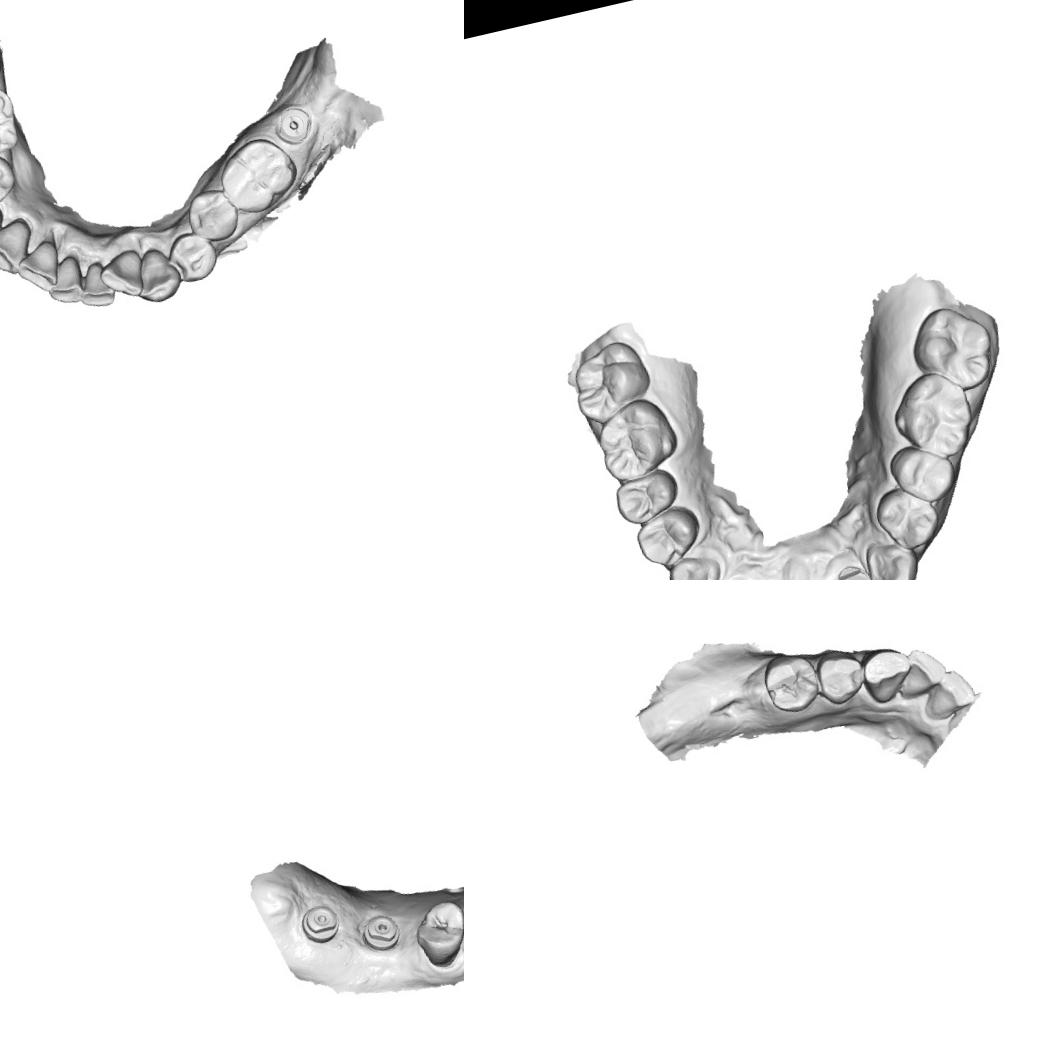canine: (856, 641, 919, 709), (129, 244, 185, 307), (863, 534, 927, 580), (0, 215, 40, 280), (662, 550, 729, 580)
implant: (296, 900, 344, 948), (356, 910, 404, 957), (831, 560, 876, 580)
implant_minus: (268, 100, 318, 150)
incisor: (888, 641, 952, 703), (917, 663, 980, 722), (11, 236, 67, 299), (95, 246, 150, 305), (41, 253, 89, 310), (73, 258, 117, 312)
molar: (904, 298, 1002, 400), (885, 366, 982, 468), (589, 391, 685, 486), (564, 334, 657, 429), (212, 130, 304, 220), (0, 80, 23, 165)
premolar: (870, 478, 945, 557), (630, 502, 709, 574), (886, 437, 961, 511), (756, 646, 826, 720), (610, 466, 684, 530), (809, 640, 871, 710), (408, 896, 464, 972), (182, 184, 245, 247), (162, 227, 222, 287), (0, 152, 20, 211)
